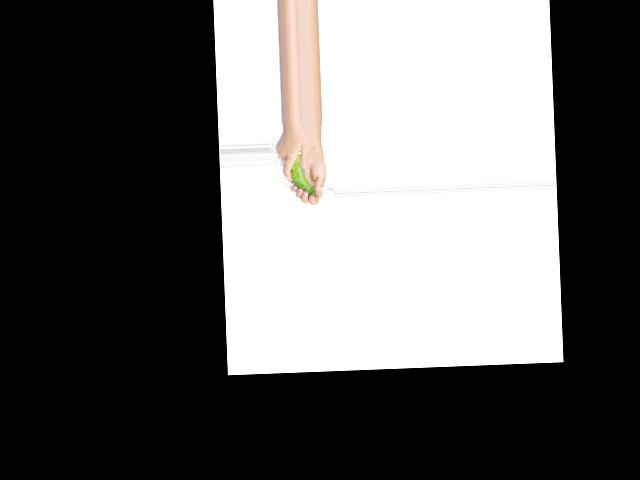cucumber: (289, 153, 316, 197)
